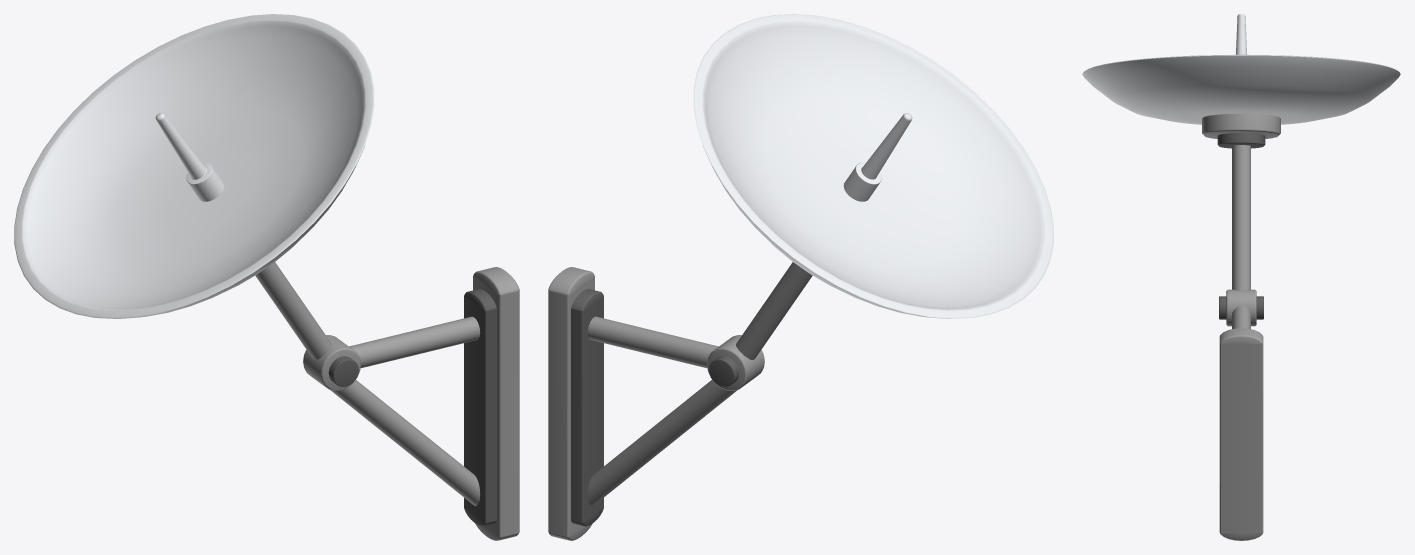
File: City_2_Antenna_1.glb
3 views of the same model, side by side, from view 1: azimuth 30°, elevation 25°; view 2: azimuth 150°, elevation 25°; view 3: azimuth 270°, elevation 25° (orthographic). The views are drawn at different scales.
Visible parts, largest first — view 1: City_2_Antenna_1; view 2: City_2_Antenna_1; view 3: City_2_Antenna_1.
Boxes of the visible parts, x1=… form: City_2_Antenna_1: x1=14, y1=14, x2=519, y2=540; City_2_Antenna_1: x1=548, y1=14, x2=1053, y2=540; City_2_Antenna_1: x1=1082, y1=14, x2=1400, y2=540.
Bounding box in the file's own units: 1.97 × 2.2 × 1.5.
Materials: 1 (1 with a texture image).
